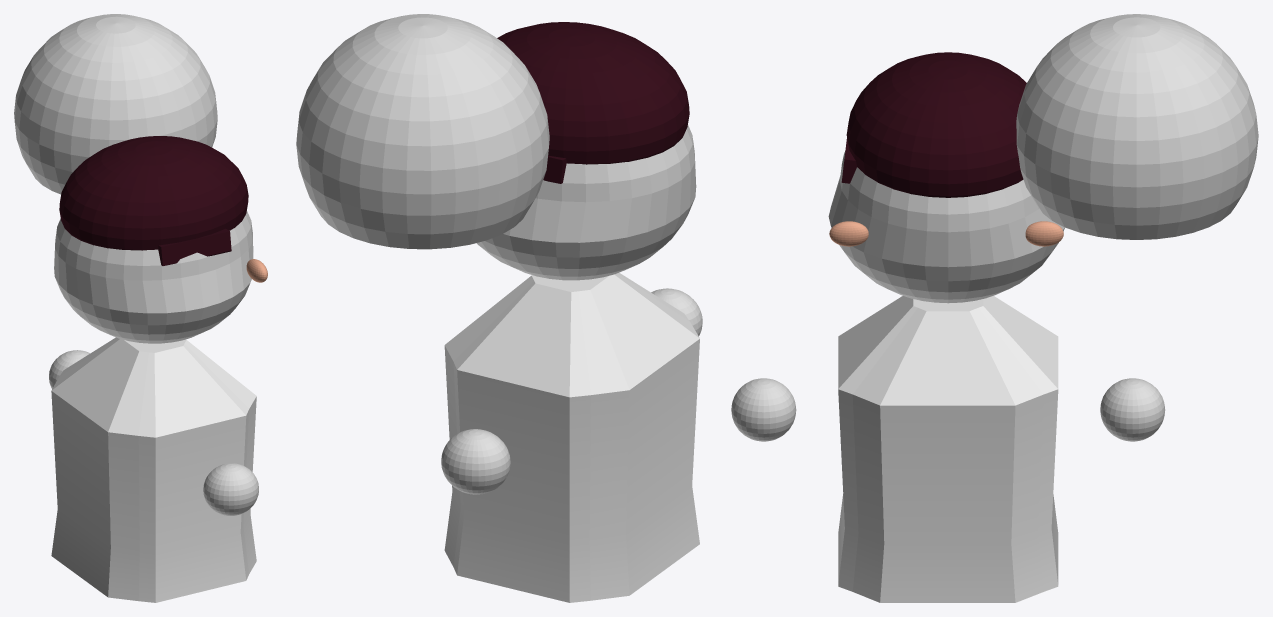
Rendered from Craig.fbx.
3 views of the same model, side by side, from view 1: azimuth 30°, elevation 25°; view 2: azimuth 150°, elevation 25°; view 3: azimuth 270°, elevation 25° (orthographic). The views are drawn at different scales.
Parts seen in each view (by area): view 1: Cube, Sphere.008, Sphere.024, Sphere, Sphere.001, Cube.001, Sphere.004; view 2: Cube, Sphere.008, Sphere.024, Sphere, Sphere.001; view 3: Cube, Sphere.008, Sphere.024, Sphere, Sphere.001, Sphere.004.
Boxes of the visible parts, x1,y1,x2,y2 form: Cube: (51, 337, 256, 602); Sphere.008: (14, 14, 217, 194); Sphere.024: (59, 136, 248, 250); Sphere: (54, 211, 253, 343); Sphere.001: (49, 350, 258, 515); Cube.001: (158, 228, 231, 265); Sphere.004: (246, 259, 267, 282); Cube: (444, 272, 699, 602); Sphere.008: (296, 14, 549, 249); Sphere.024: (497, 22, 689, 164); Sphere: (476, 125, 696, 280); Sphere.001: (441, 288, 702, 494); Cube: (838, 296, 1058, 602); Sphere.008: (1016, 14, 1258, 239); Sphere.024: (846, 52, 1026, 197); Sphere: (828, 151, 1064, 303); Sphere.001: (731, 378, 1165, 441); Sphere.004: (829, 221, 1063, 246).
Size of the model in its own units: 246 by 505 by 432.
